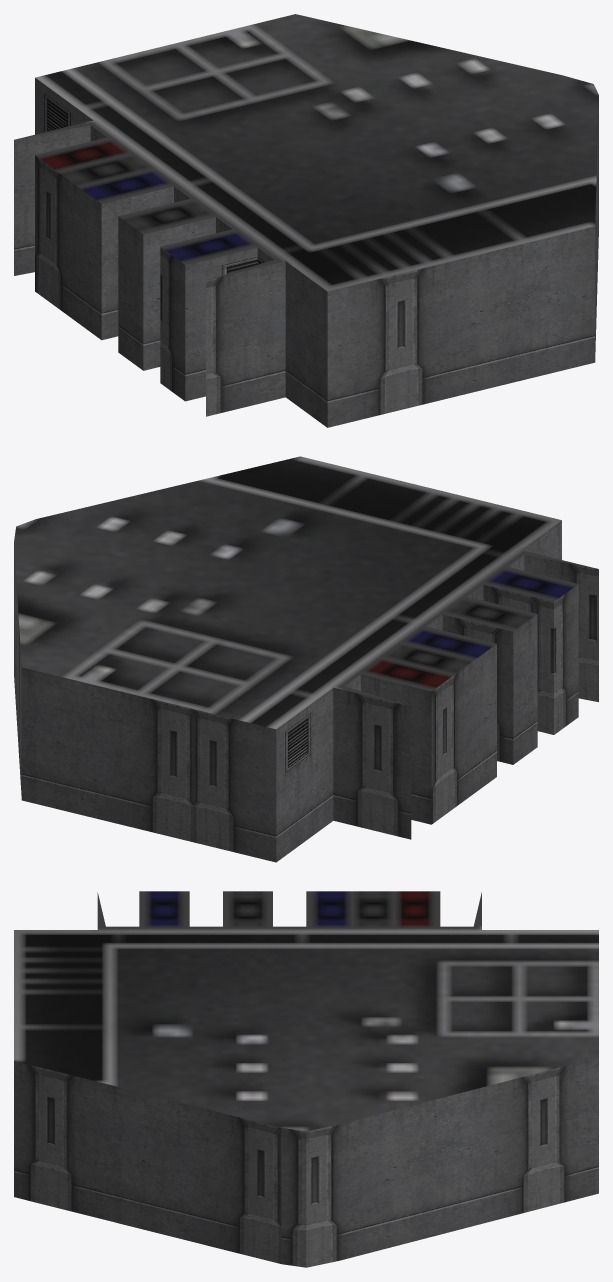
File: BuildingSystem-03-Advance-04-ReinforcedLow-7-100-02.glb
The picture shows the model from 3 angles, top to bottom: view 1: azimuth 30°, elevation 25°; view 2: azimuth 150°, elevation 25°; view 3: azimuth 270°, elevation 25°; orthographic projection. The views are drawn at different scales.
Visible parts, largest first — view 1: buildings/saxarba/SMV_Buildings/BuildingSystem-03-Advance-04; view 2: buildings/saxarba/SMV_Buildings/BuildingSystem-03-Advance-04; view 3: buildings/saxarba/SMV_Buildings/BuildingSystem-03-Advance-04.
Boxes of the visible parts, x1,y1,x2,y2 form: buildings/saxarba/SMV_Buildings/BuildingSystem-03-Advance-04: (14, 14, 598, 427); buildings/saxarba/SMV_Buildings/BuildingSystem-03-Advance-04: (14, 456, 598, 862); buildings/saxarba/SMV_Buildings/BuildingSystem-03-Advance-04: (14, 891, 598, 1267).
Size of the model in its own units: 68 by 18 by 70.
